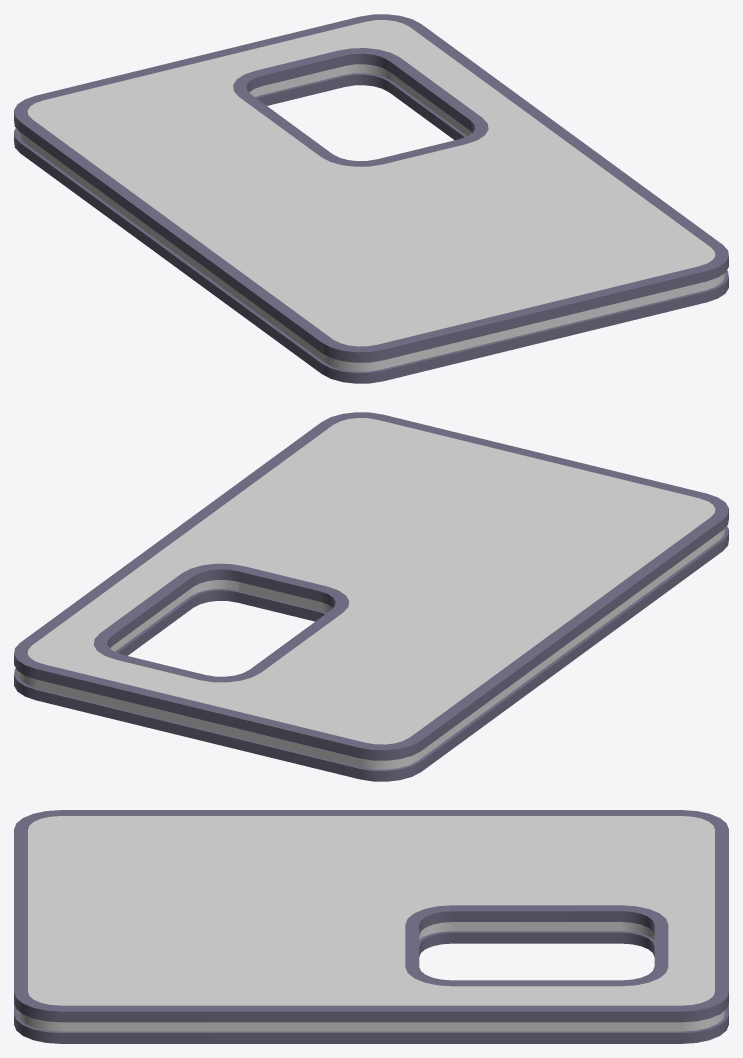
File: env_undergroundstation_concreteplatform02.fbx
3 renders of one model, top to bottom at view 1: azimuth 30°, elevation 25°; view 2: azimuth 150°, elevation 25°; view 3: azimuth 270°, elevation 25°, orthographic. The views are drawn at different scales.
Visible parts, largest first — view 1: env_undergroundstation_concreteplatform02; view 2: env_undergroundstation_concreteplatform02; view 3: env_undergroundstation_concreteplatform02.
Boxes of the visible parts, box(x1,y1,x2,y2) form: env_undergroundstation_concreteplatform02: box(14, 14, 728, 383); env_undergroundstation_concreteplatform02: box(14, 412, 728, 781); env_undergroundstation_concreteplatform02: box(14, 810, 728, 1043).
Bounding box in the file's own units: 160 × 12 × 240.
